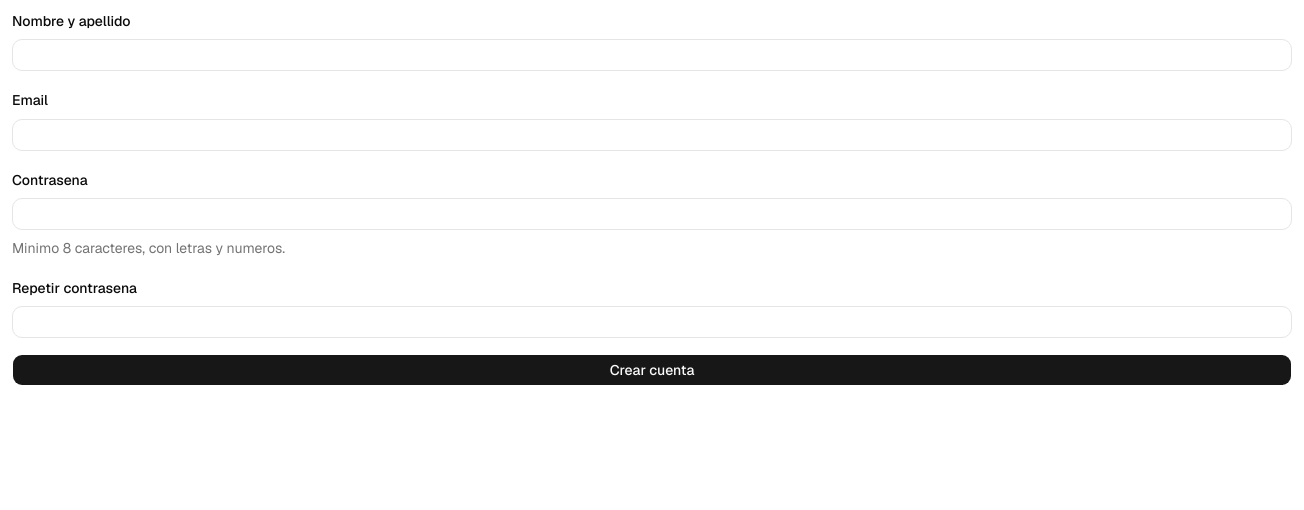
Test case: muestra los errores por campo que devuelve la action
Type "Nico Shopping" into the field labelled "Nombre y apellido".
click(652, 55); type("Nico Shopping")  # box [12,39,1292,71]
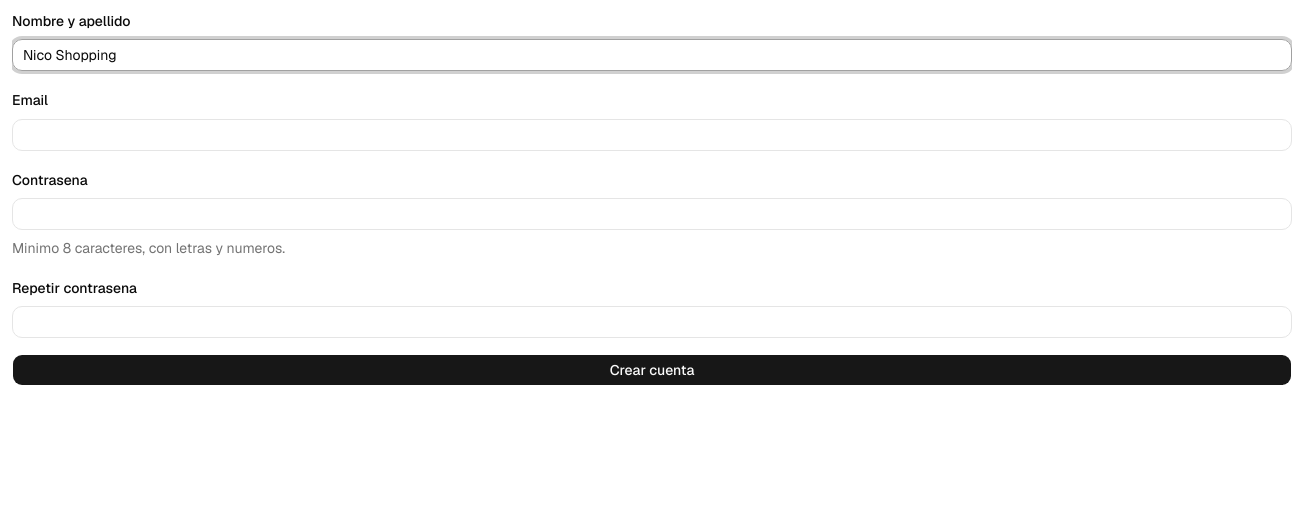
Type "nico@shopping.com" into the field labelled "Email".
click(652, 134); type("nico@shopping.com")  # box [12,118,1292,150]
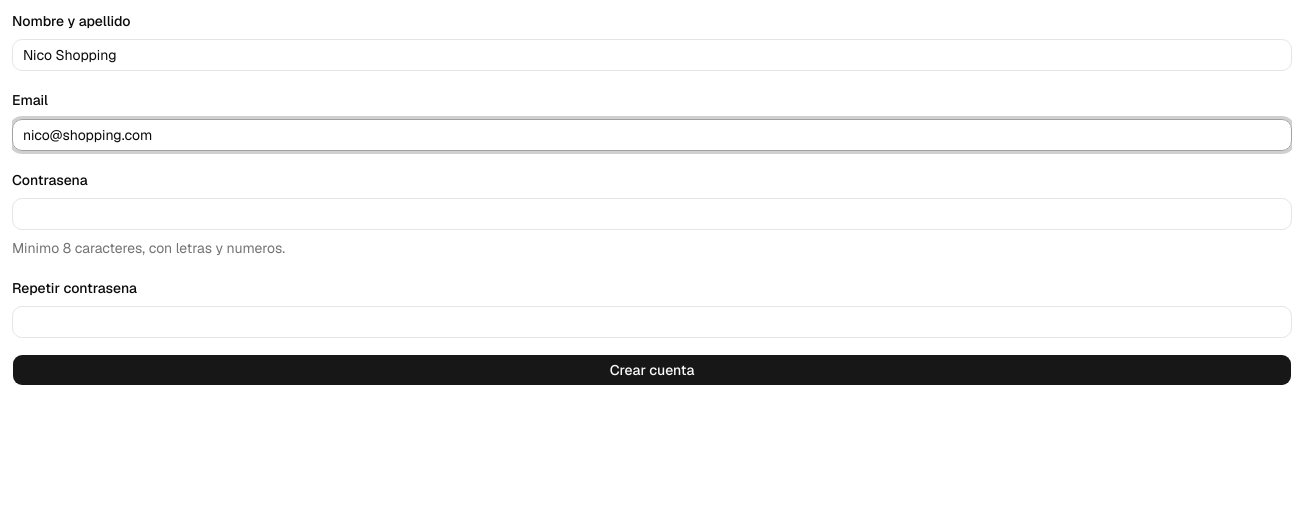
Type "Nico2026" into the password field labelled "Contrasena".
click(652, 214); type("Nico2026")  # box [12,198,1292,230]
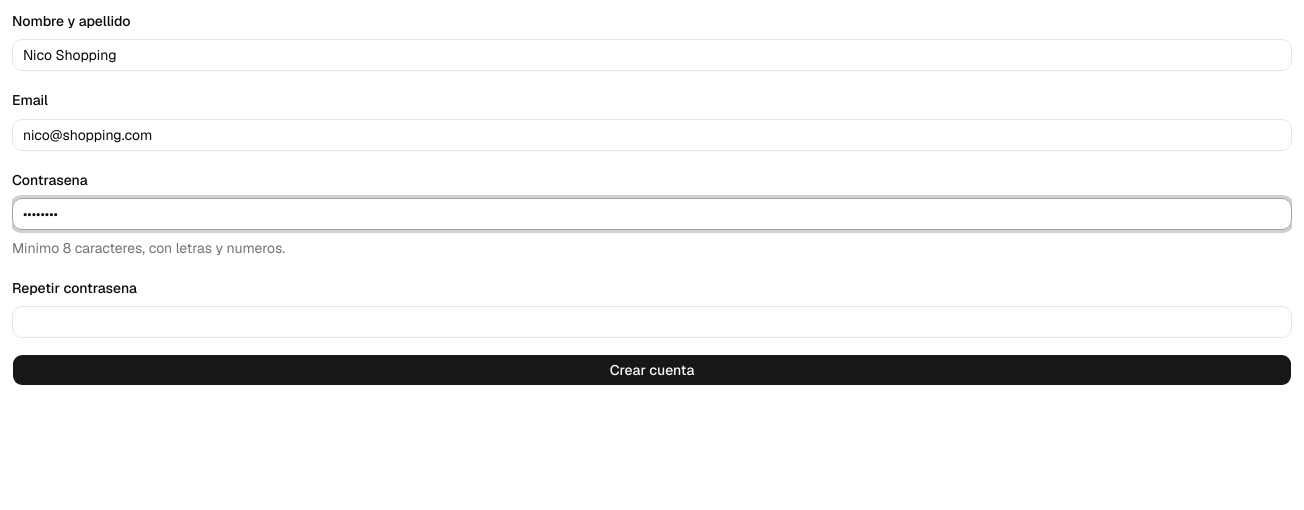
Type "Nico2026" into the password field labelled "Repetir contrasena".
click(652, 322); type("Nico2026")  # box [12,306,1292,338]
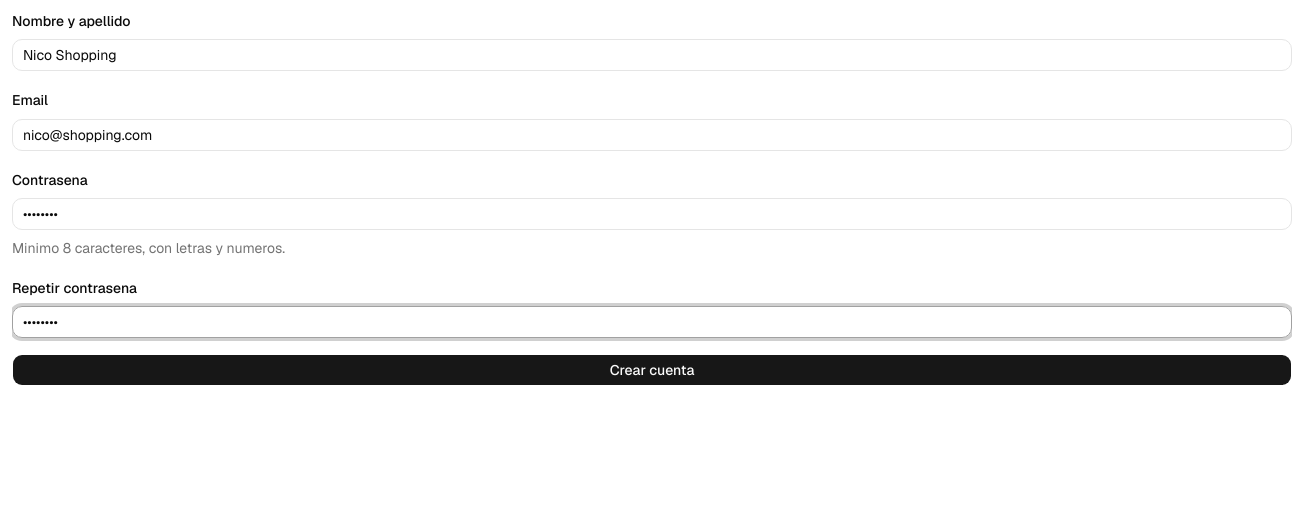
Click the button "Crear cuenta".
click(652, 370)  # box [12,354,1292,386]
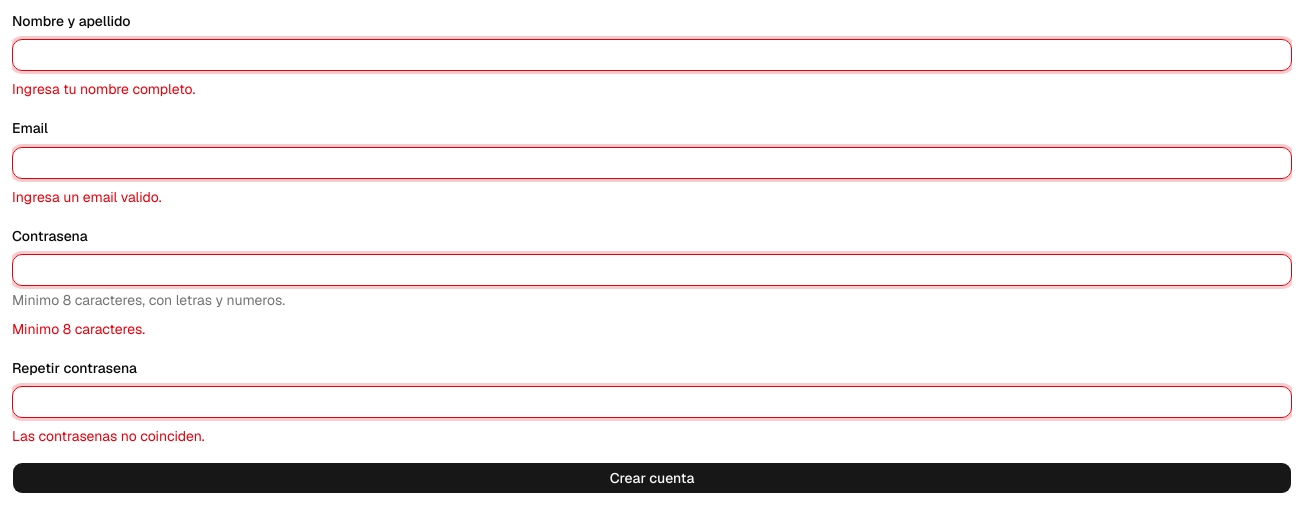
Check: the text "Las contrasenas no coinciden." is shown, box [12,427,205,445]
